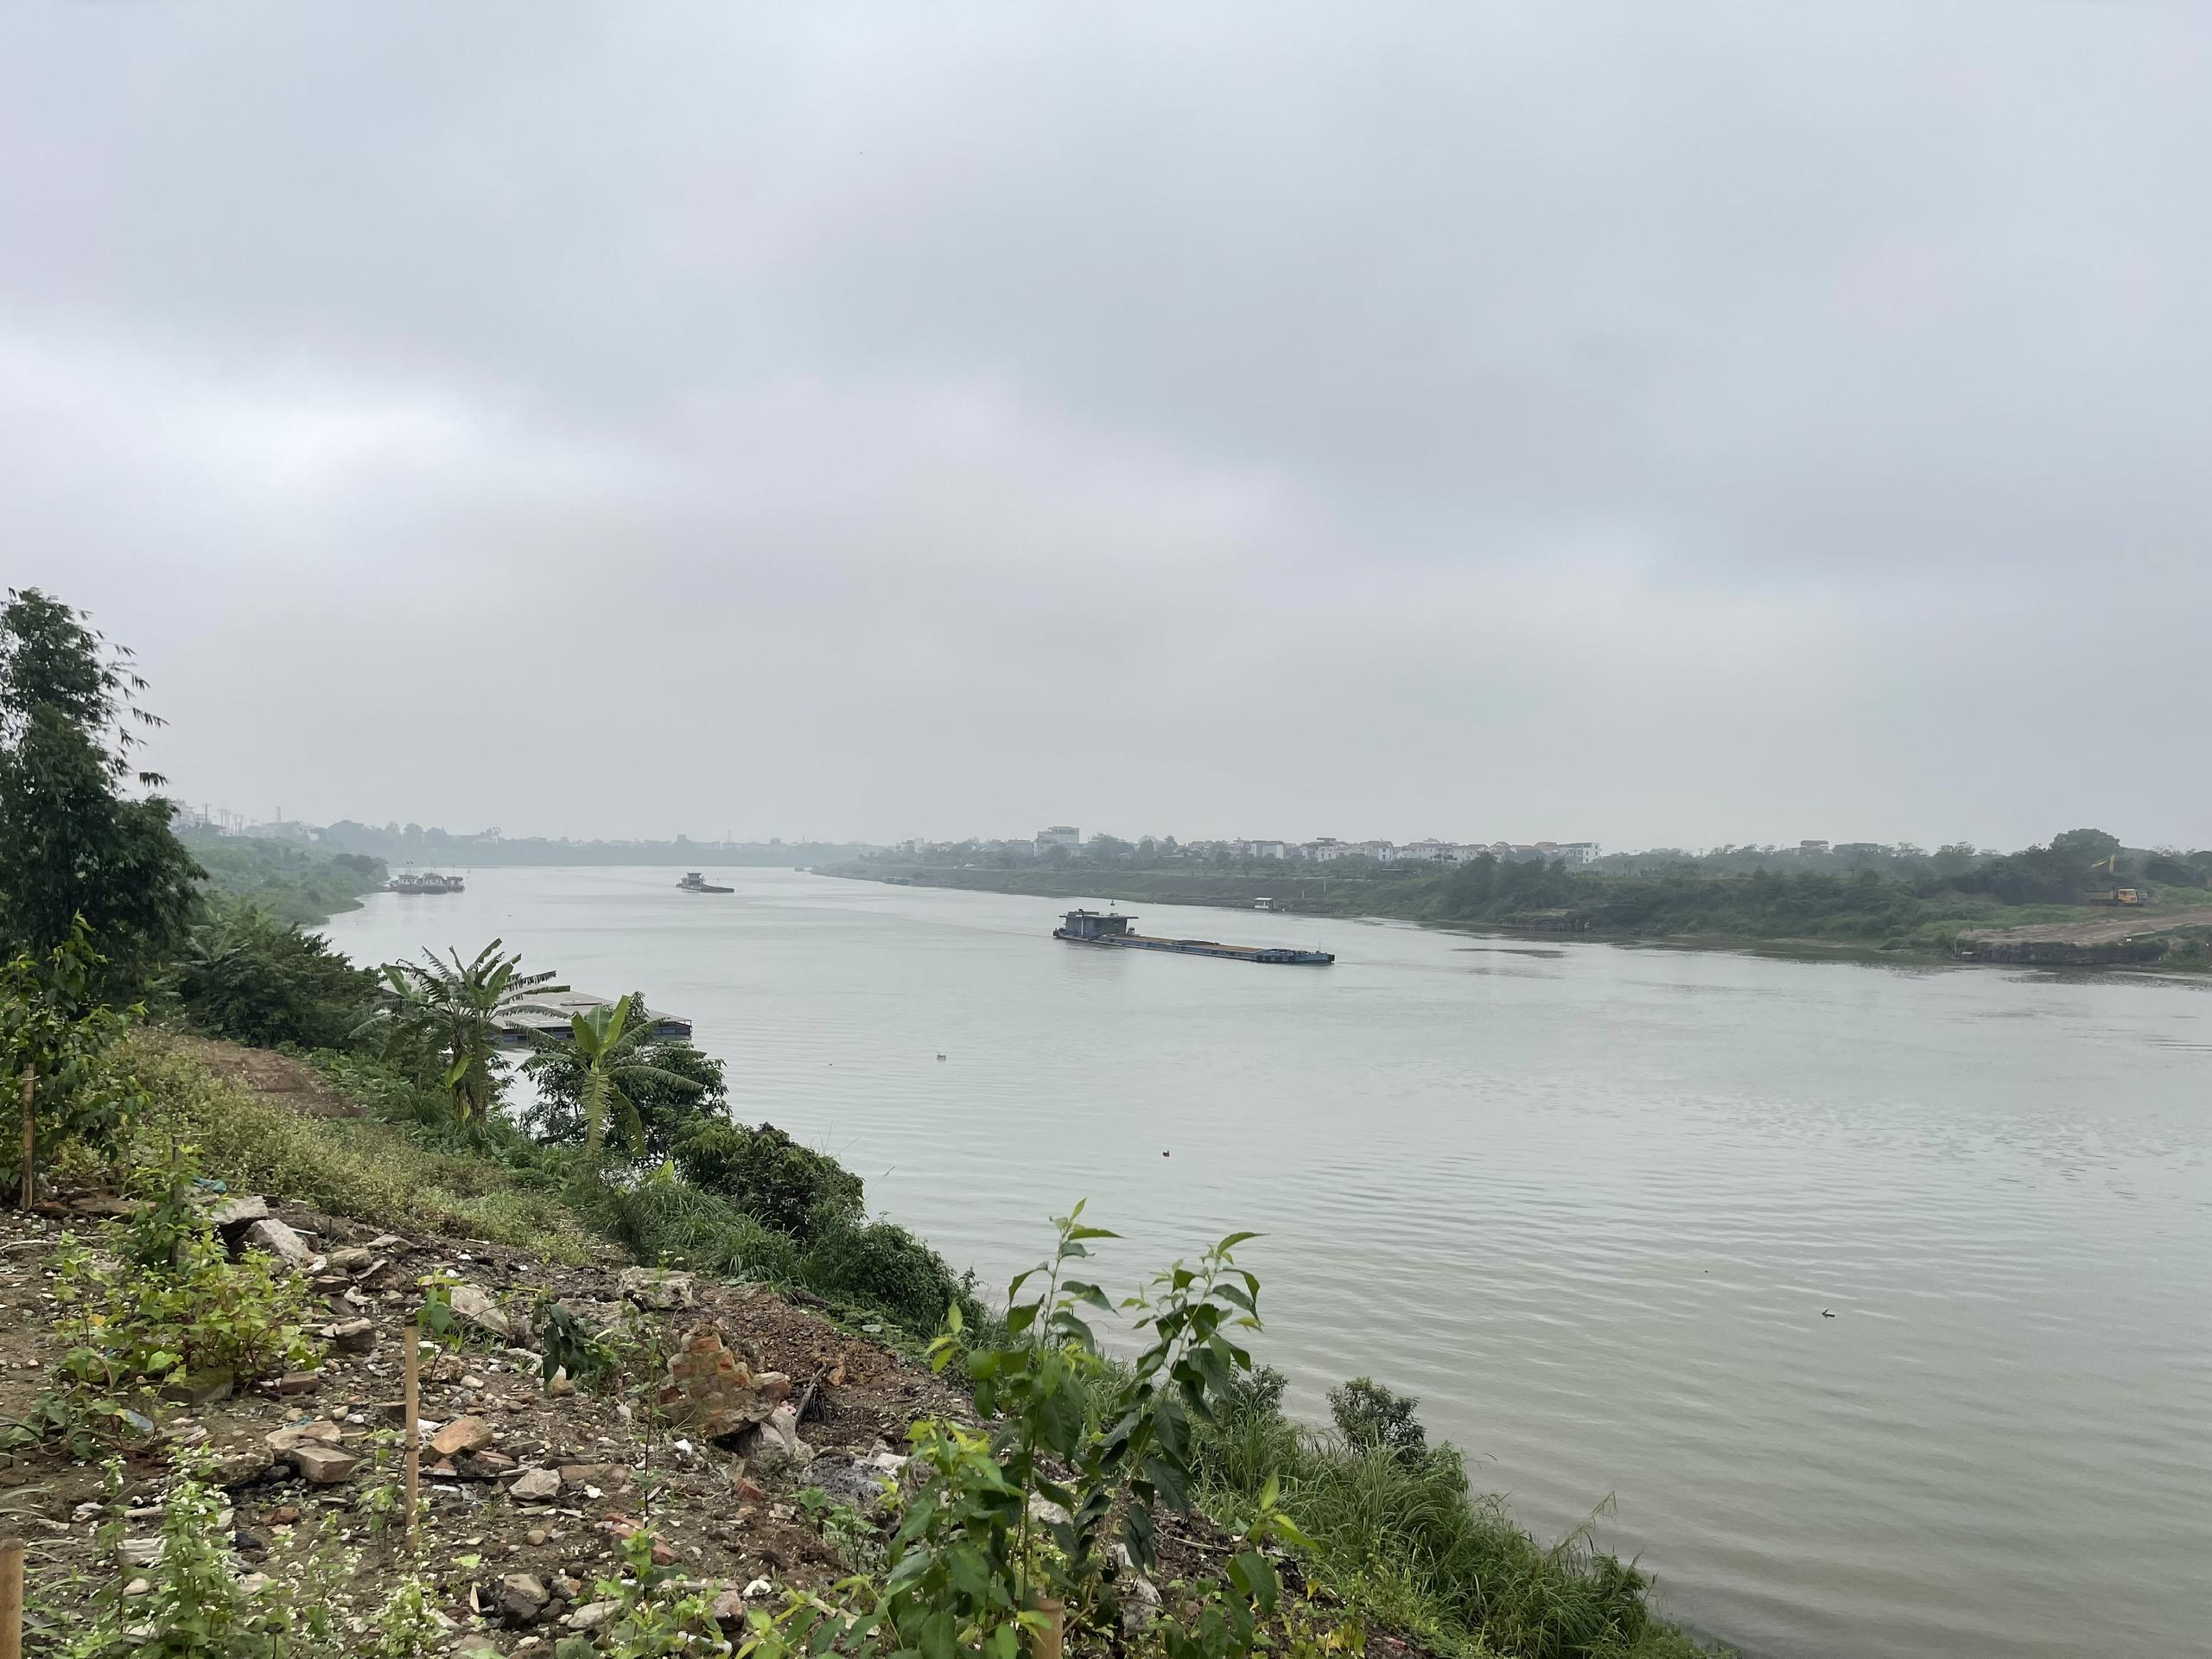Ship: (1050, 903, 1346, 971), (669, 850, 745, 906)
